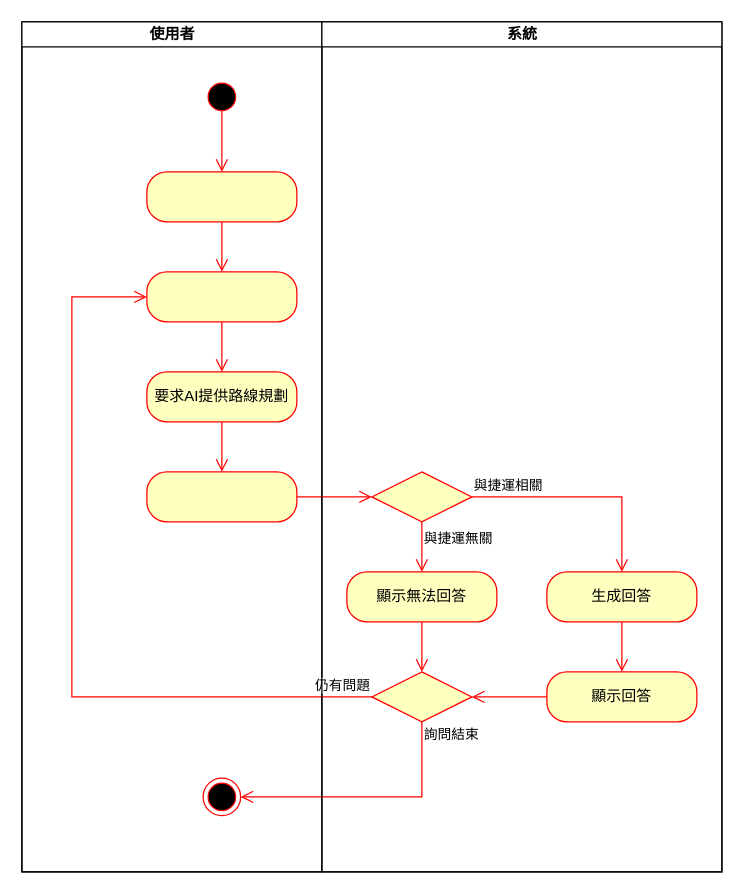
Image size: 744x894. Some labels were removed from this diagram. Each missing label, with the box of its shape:
AI對話 介面: (146, 171, 297, 222)
輸入出發地與目的地: (146, 271, 297, 322)
送出要求: (146, 471, 297, 522)
